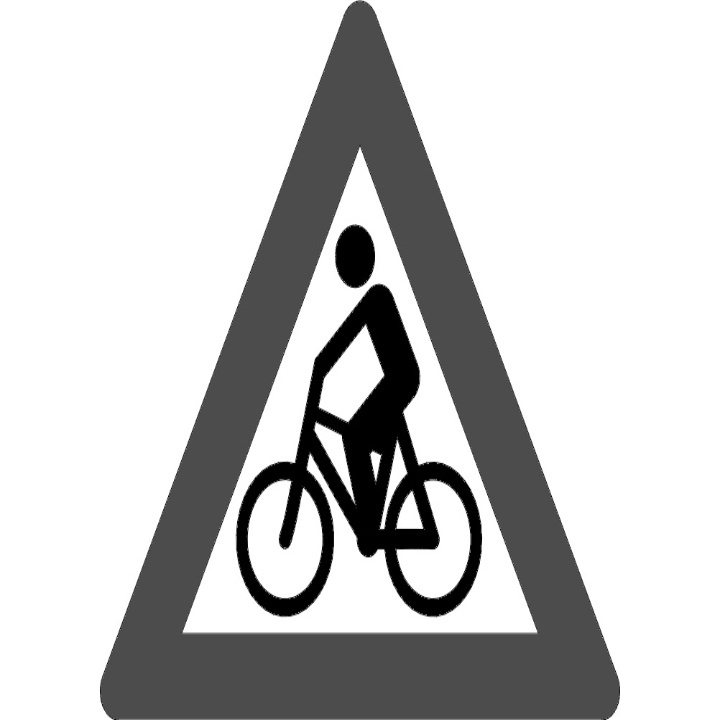bicycle: (215, 345, 513, 643)
